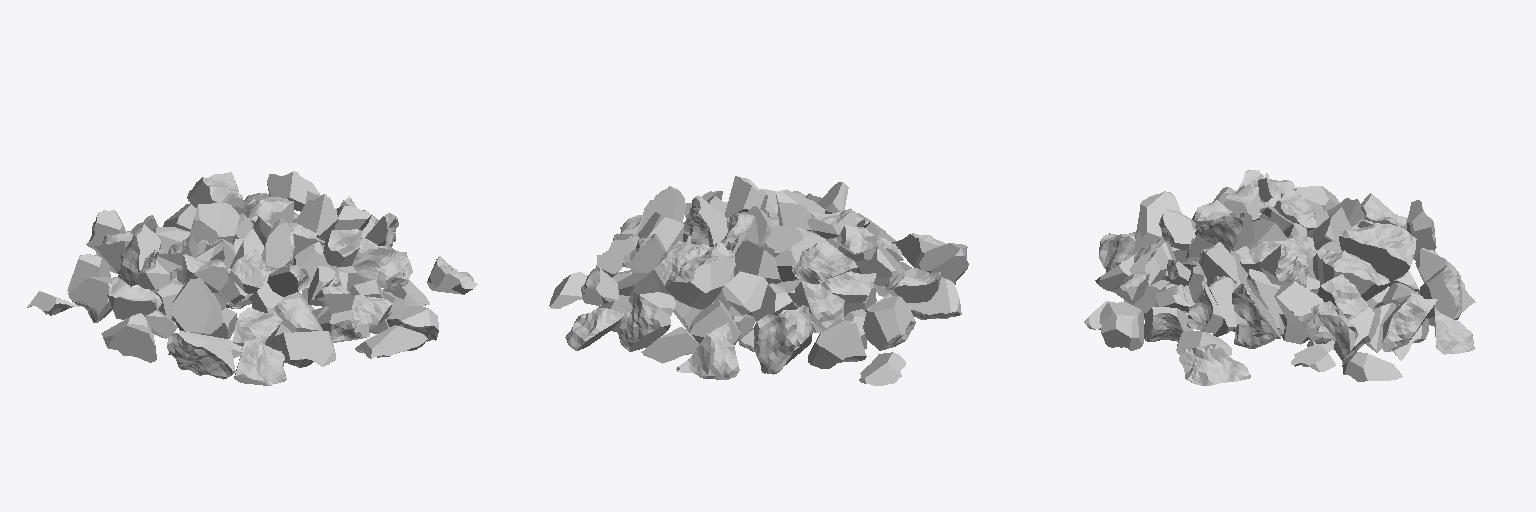
The model's file is Rock_Pile_Ironworks.obj.
3 renders of one model, left to right at view 1: azimuth 30°, elevation 25°; view 2: azimuth 150°, elevation 25°; view 3: azimuth 270°, elevation 25°, orthographic.
Visible parts, largest first — view 1: Rock_Pile Rock_Pile1; view 2: Rock_Pile Rock_Pile1; view 3: Rock_Pile Rock_Pile1.
Part boxes in pixels (bbox=[...]): Rock_Pile Rock_Pile1: bbox=[27, 171, 477, 385]; Rock_Pile Rock_Pile1: bbox=[549, 176, 968, 385]; Rock_Pile Rock_Pile1: bbox=[1084, 170, 1475, 385].
Bounding box in the file's own units: 332 × 84.44 × 311.